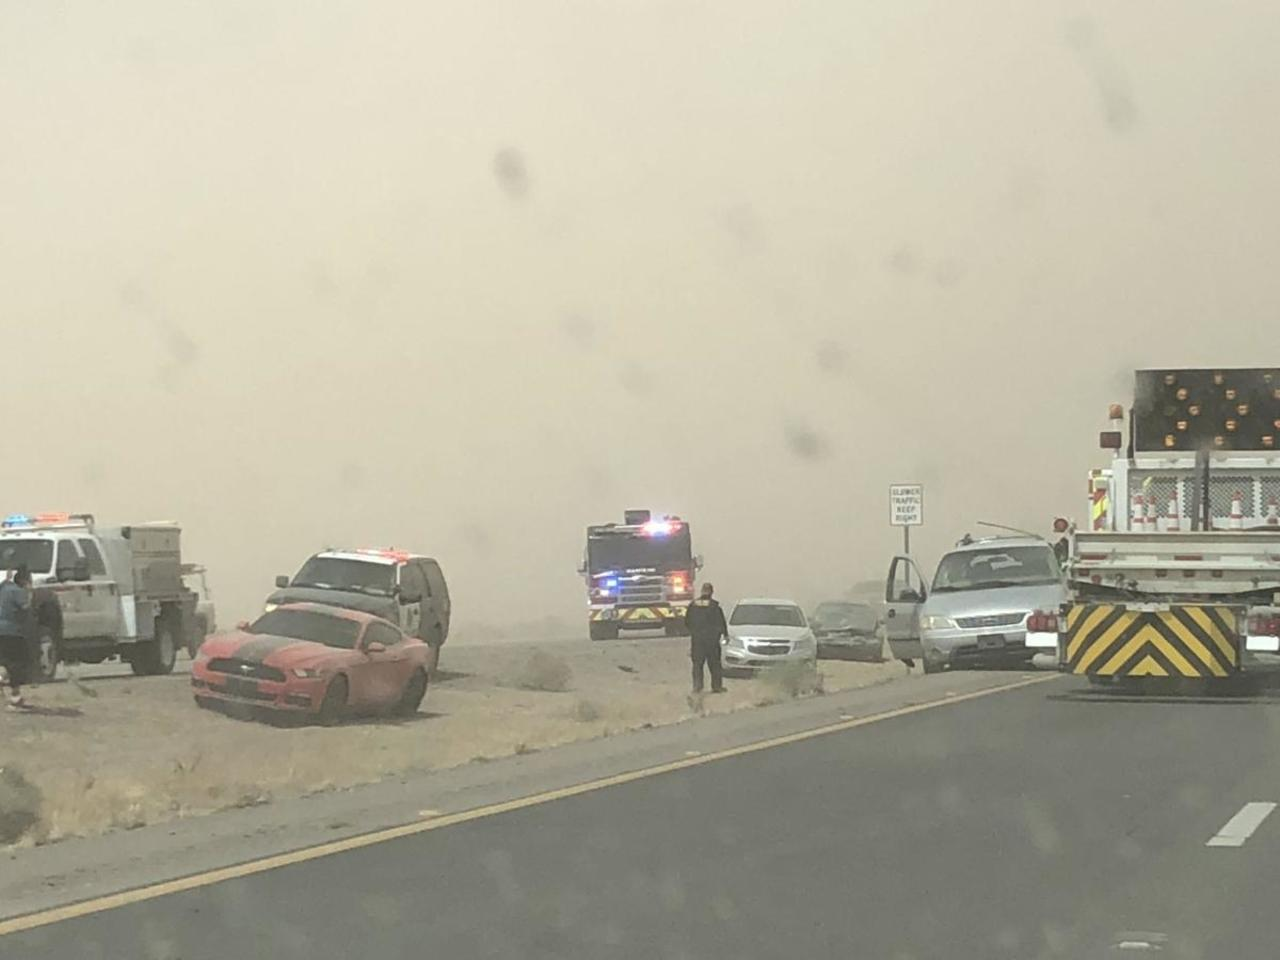car: (185, 601, 435, 722), (888, 533, 1067, 664), (277, 544, 455, 673), (725, 597, 819, 671), (811, 597, 891, 660)
person: (2, 569, 45, 711), (684, 582, 729, 697)
truck: (1064, 364, 1278, 691), (0, 518, 205, 676), (580, 513, 702, 645)
